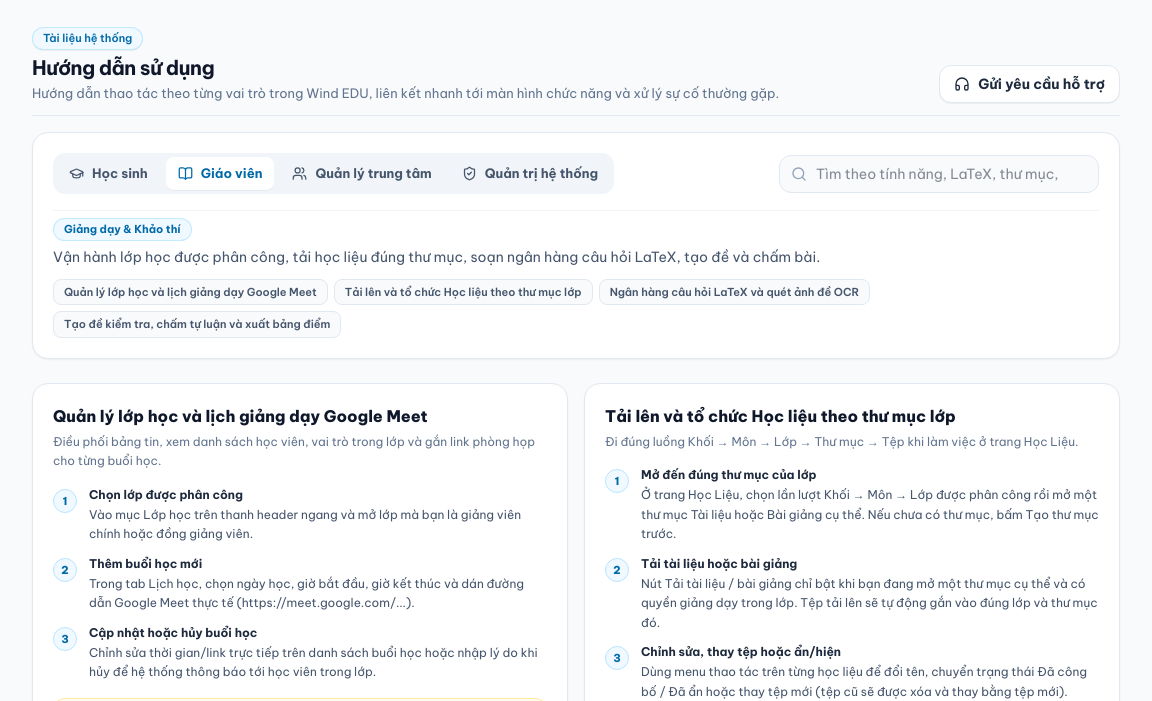
Test case: GuideScreen › lọc hướng dẫn theo từ khóa, hiển thị trạng thái rỗng khi không khớp và đặt lại tìm kiếm
Type "LaTeX" into the field named "Tìm kiếm hướng dẫn" at (939, 174), box left=779, top=155, right=1099, bottom=193
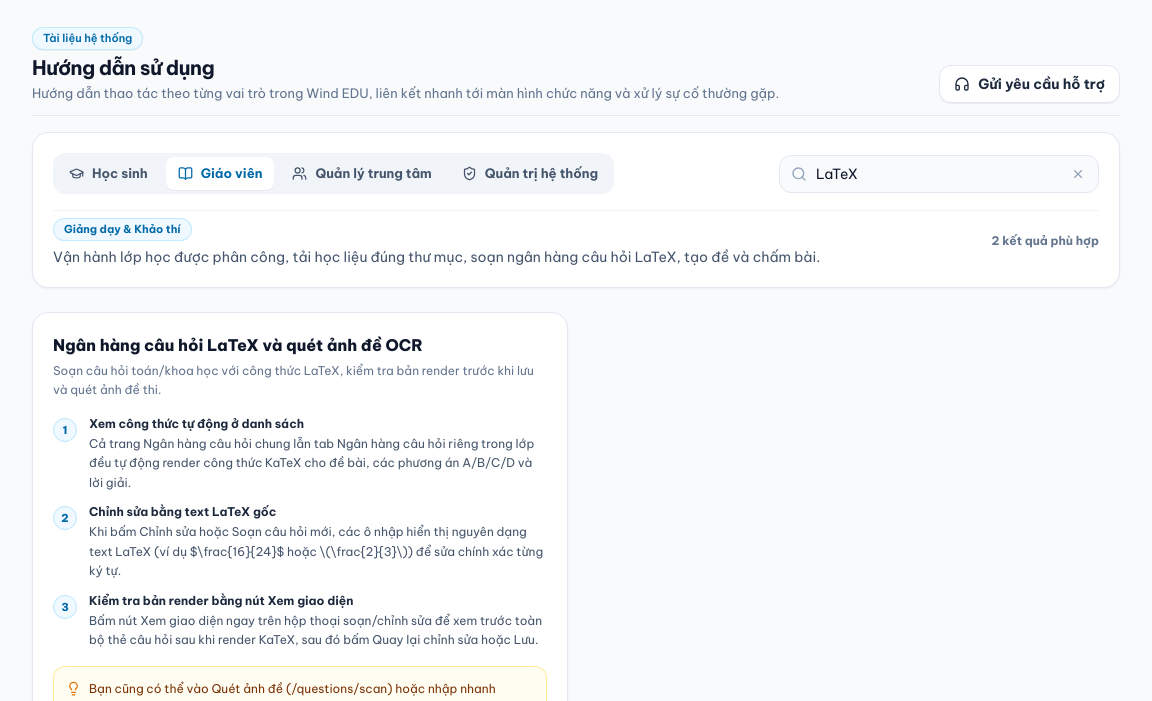
Expected: the heading "Ngân hàng câu hỏi LaTeX và quét ảnh đề OCR" is shown, left=53, top=335, right=423, bottom=355
Expected: the link "Quản lý lớp học và lịch giảng dạy Google Meet" is gone
Replace the text in the field named "Tìm kiếm hướng dẫn" with "khong-ton-tai-abc" at (939, 174), box left=779, top=155, right=1099, bottom=193
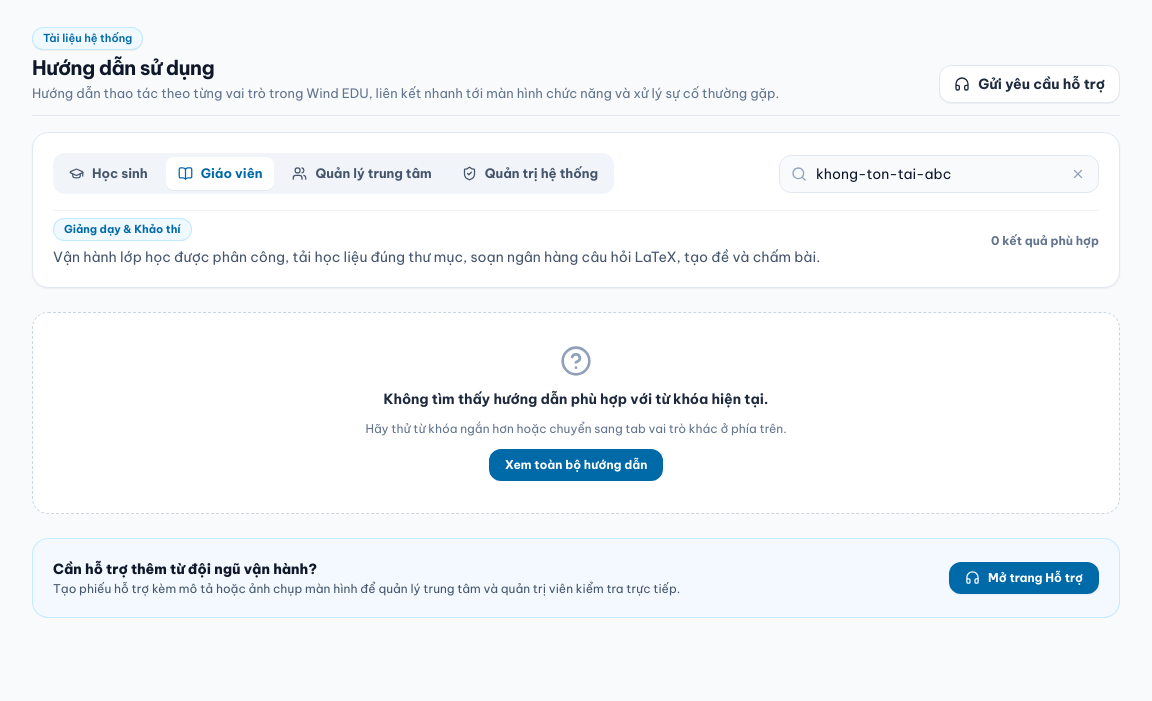
Expected: the text "Không tìm thấy hướng dẫn phù hợp với từ khóa hiện tại." is shown, left=383, top=390, right=768, bottom=408
Click the button "Xem toàn bộ hướng dẫn" at (576, 465), box left=489, top=449, right=663, bottom=481
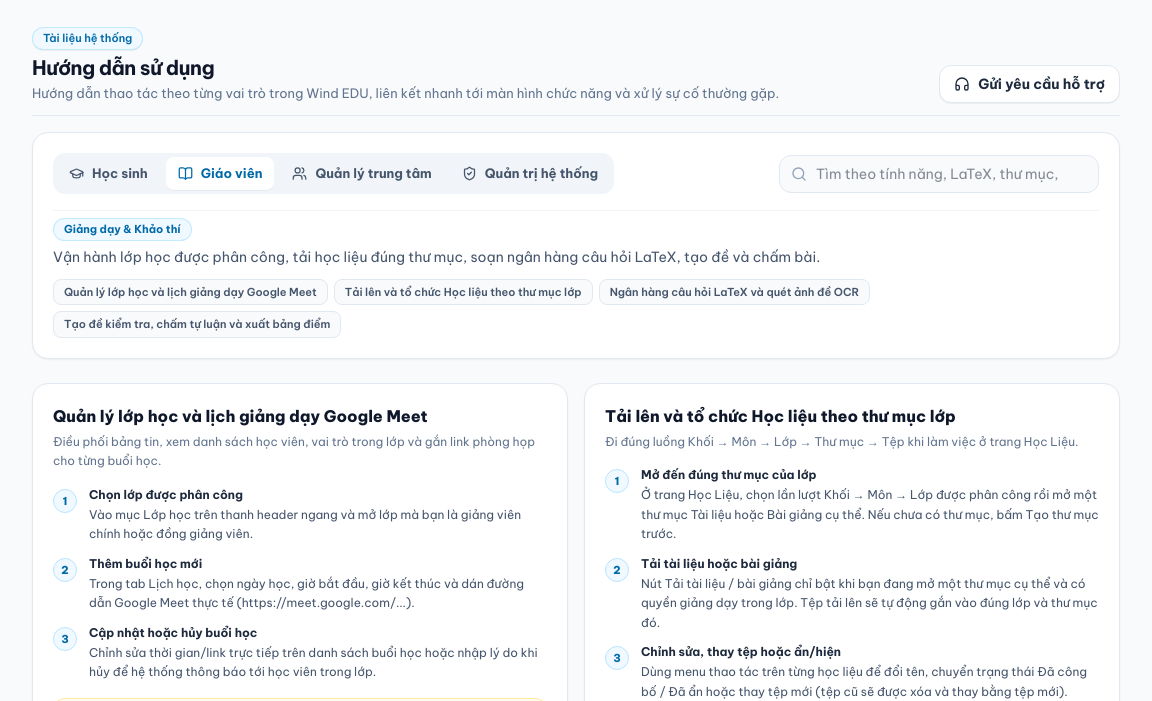
Expected: the field named "Tìm kiếm hướng dẫn" is empty, left=779, top=155, right=1099, bottom=193
Expected: the heading "Quản lý lớp học và lịch giảng dạy Google Meet" is shown, left=53, top=406, right=428, bottom=426
